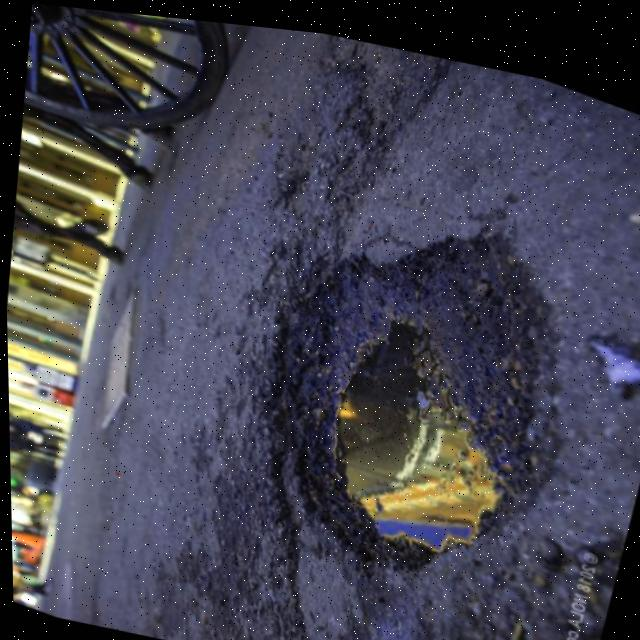Pothole: (138, 107, 610, 640)
